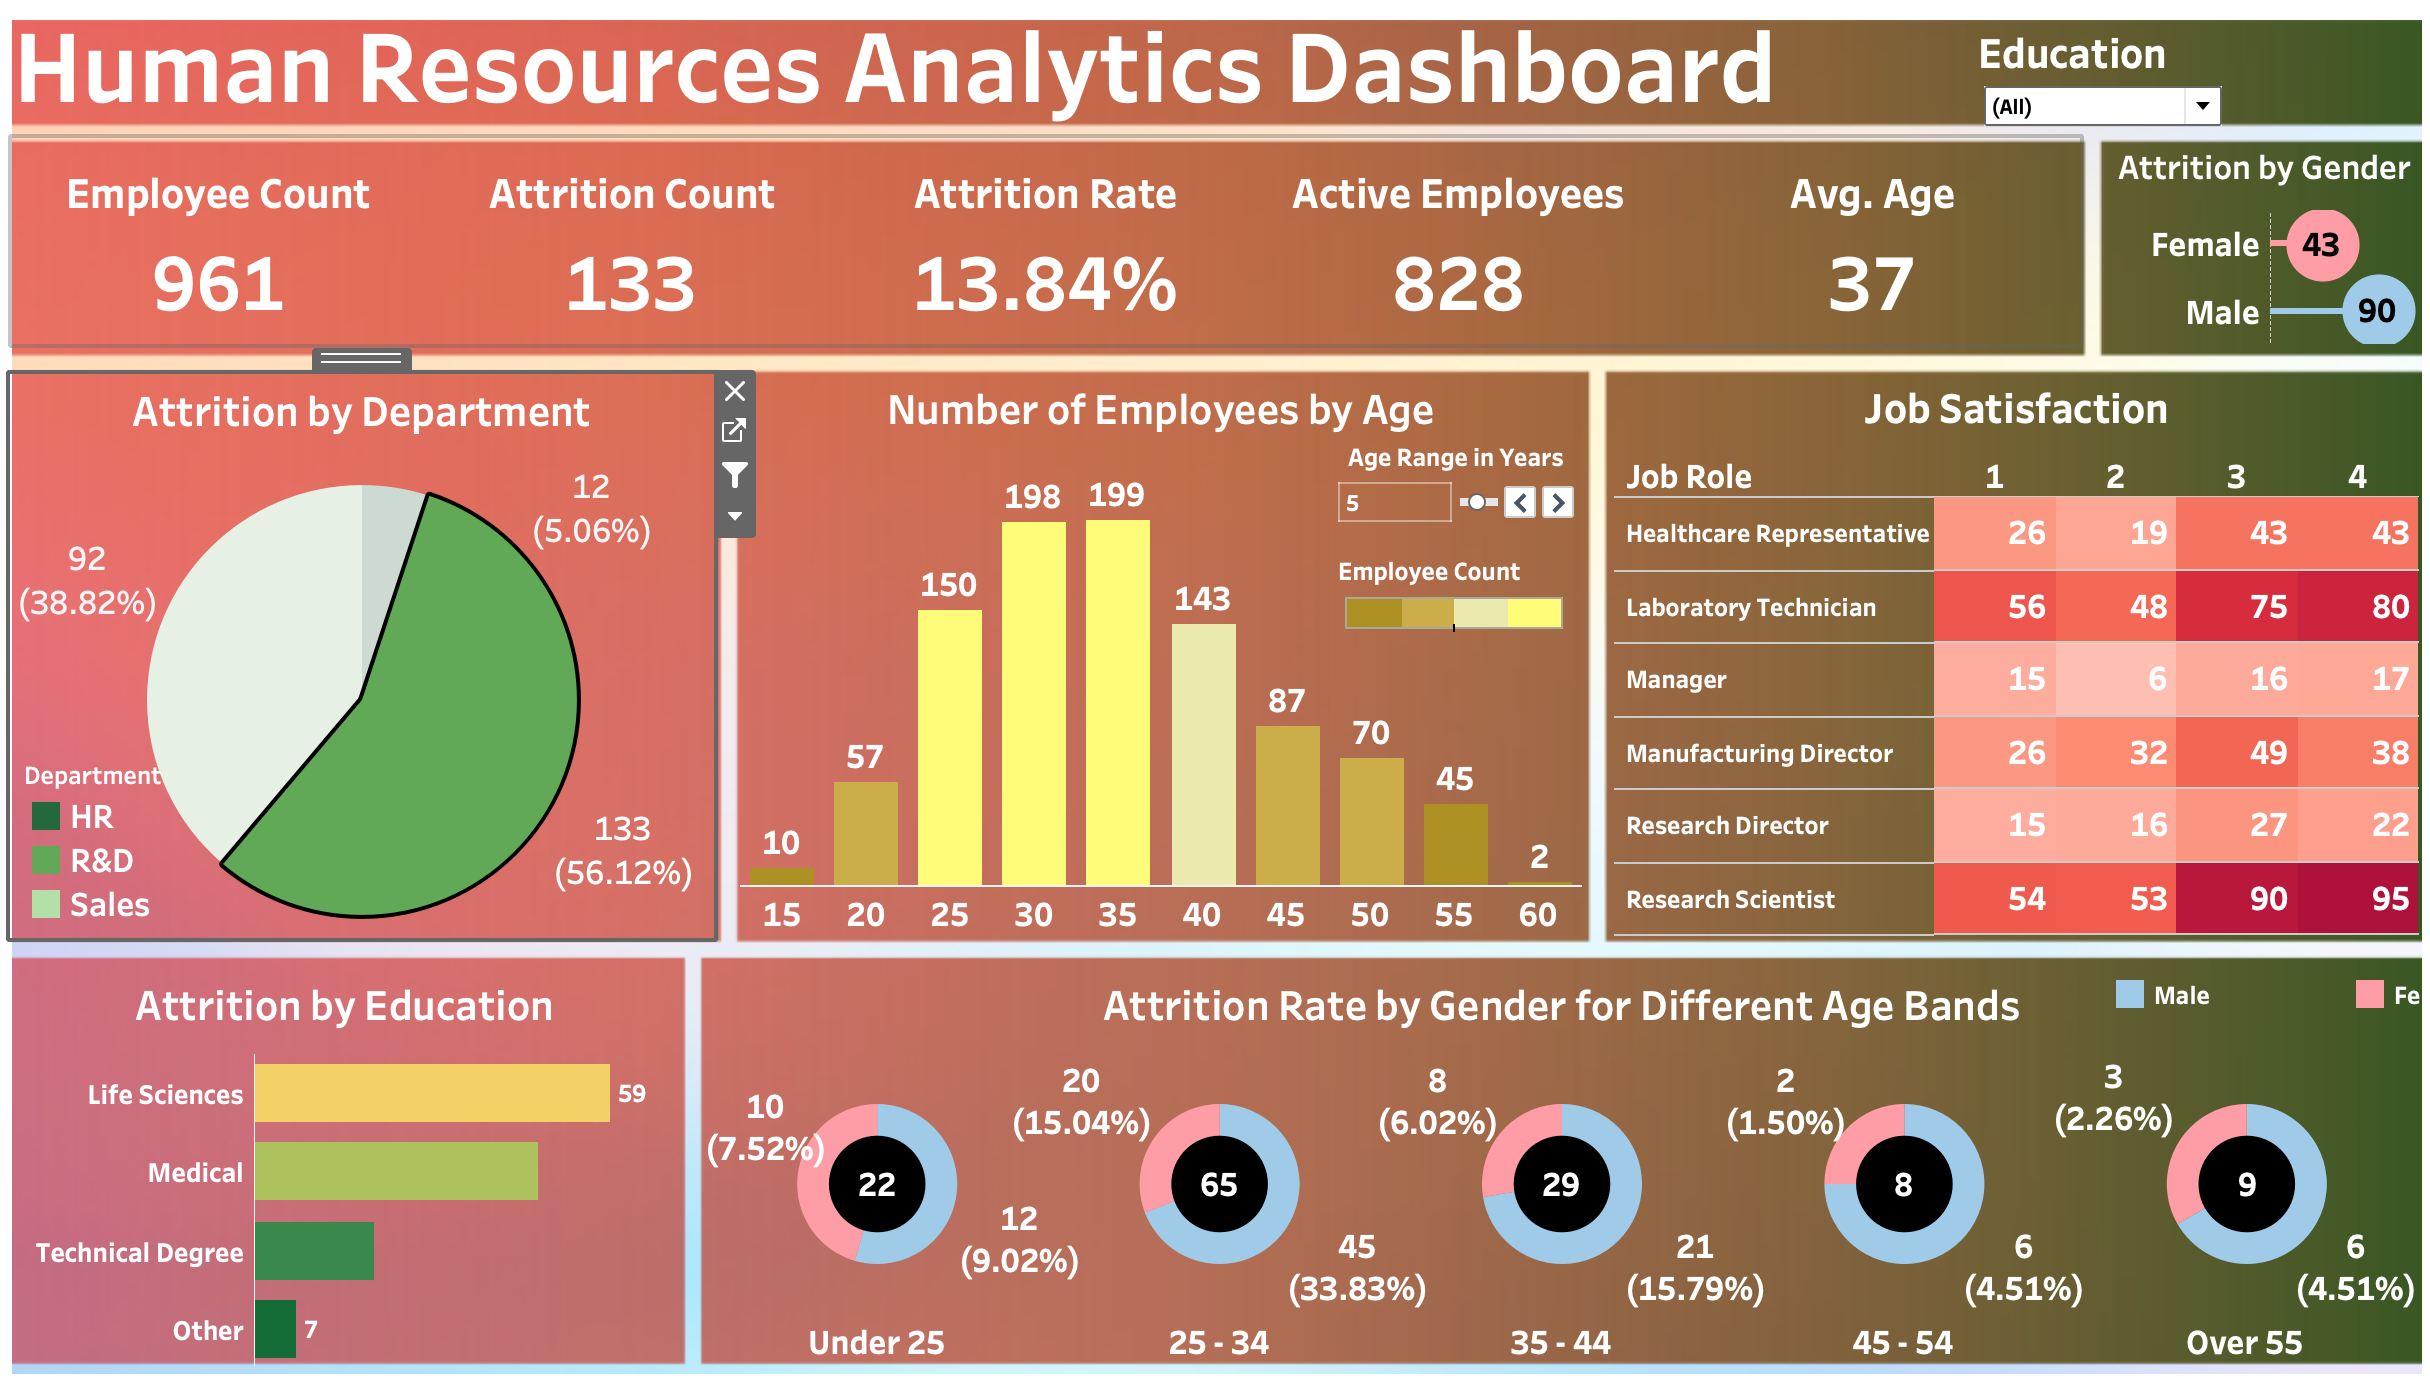

The page's visual inventory and layout, read from the dashboard file:
{"tool":"tableau","page":{"name":"Human Resources Dashboard","canvas":[1580,900],"ordinal":0},"visuals":[{"type":"image","param":"/Users/chrisgaruba/Documents/PROJECTS/ORIGINAL PROJECT DATA/Data Analyst Portfol","box":[8,8,1564,884]},{"type":"text","box":[13,12,892,67]},{"type":"filter","title":"Attrition by Department","param":"[federated.16fzf2y1m25ecy1cqt7hm1aib45q].[none:Education:nk]","box":[1219,18,160,138]},{"type":"worksheet","title":"Attrition by Gender","mark":"Automatic","rows":["Gender"],"cols":["Calculation_1640436225959071744","Calculation_1640436225959071744"],"box":[1364,93,201,132]},{"type":"worksheet","title":"KPI","mark":"Automatic","box":[16,94,1329,131]},{"type":"worksheet","title":"Number of Employees by Age","mark":"Automatic","rows":["Employee Count"],"cols":["Age (bin)"],"box":[484,243,541,360]},{"type":"worksheet","title":"Job Satisfaction","mark":"Square","rows":["Job Role"],"cols":["Job Satisfaction"],"box":[1045,243,518,359]},{"type":"worksheet","title":"Attrition by Department","mark":"Pie","box":[14,244,453,360]},{"type":"parameter","param":"[Parameters].[Parameter 1]","box":[864,287,160,67]},{"type":"legend","title":"Number of Employees by Age","param":"[federated.16fzf2y1m25ecy1cqt7hm1aib45q].[sum:Employee Count:qk]","box":[868,359,150,52]},{"type":"legend","title":"Attrition by Department","param":"[federated.16fzf2y1m25ecy1cqt7hm1aib45q].[none:Department:nk]","box":[19,525,140,78]},{"type":"worksheet","title":"Attrition by Education","mark":"Automatic","rows":["Education Field"],"cols":["Calculation_1640436225959071744"],"box":[17,622,425,254]},{"type":"worksheet","title":"Attrition Rate by Gender for Different Age Bands","mark":"Pie","rows":["Calculation_1640436226023108614","Calculation_1640436226023129096"],"cols":["CF_age band"],"box":[462,622,1101,253]}]}

Visuals, with their boxes in screenshot pixels (x1, y1, x2, y2), scaled from the page's 1580x900 canvas onto the 2430x1394 screenshot:
image: region(12, 12, 2418, 1382)
text: region(20, 19, 1392, 122)
"Attrition by Department" filter: region(1875, 28, 2121, 242)
"Attrition by Gender" worksheet: region(2098, 144, 2407, 348)
"KPI" worksheet: region(25, 146, 2069, 348)
"Number of Employees by Age" worksheet: region(744, 376, 1576, 934)
"Job Satisfaction" worksheet (Square marks): region(1607, 376, 2404, 932)
"Attrition by Department" worksheet (Pie marks): region(22, 378, 718, 936)
parameter: region(1329, 445, 1575, 548)
"Number of Employees by Age" legend: region(1335, 556, 1566, 637)
"Attrition by Department" legend: region(29, 813, 245, 934)
"Attrition by Education" worksheet: region(26, 963, 680, 1357)
"Attrition Rate by Gender for Different Age Bands" worksheet (Pie marks): region(711, 963, 2404, 1355)
